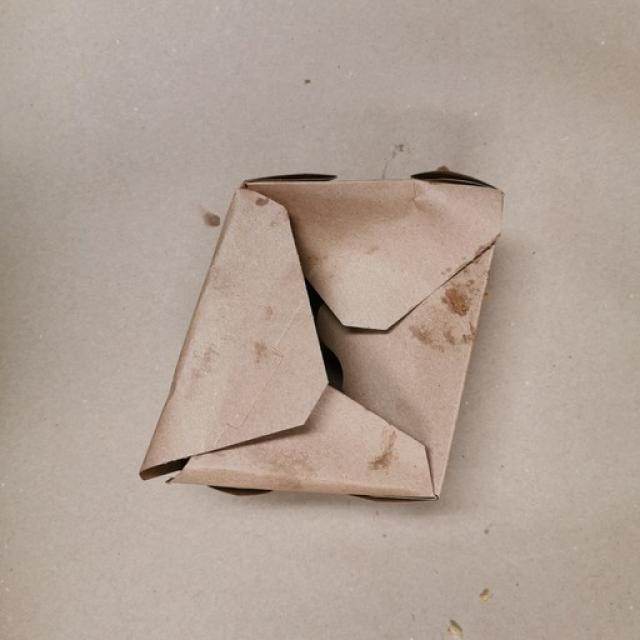PaperCardboard: (144, 164, 518, 509)
